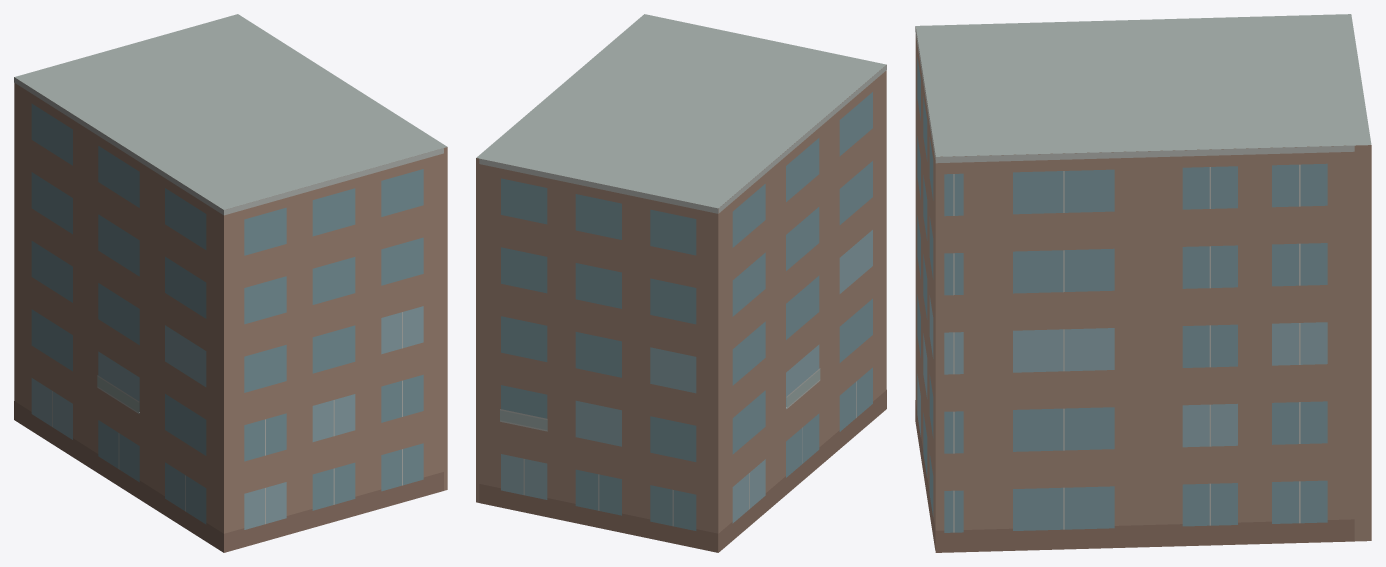
The model's file is survey-upis-32606353.glb.
3 views of the same model, side by side, from view 1: azimuth 30°, elevation 25°; view 2: azimuth 150°, elevation 25°; view 3: azimuth 270°, elevation 25° (orthographic). The views are drawn at different scales.
Parts seen in each view (by area): view 1: survey-upis-32606353.tmp; view 2: survey-upis-32606353.tmp; view 3: survey-upis-32606353.tmp.
Part boxes in pixels (x1,y1,x2,y2): survey-upis-32606353.tmp: (14, 14, 447, 552); survey-upis-32606353.tmp: (476, 14, 886, 552); survey-upis-32606353.tmp: (915, 14, 1371, 552).
Bounding box in the file's own units: 11.89 × 15.35 × 16.02.
